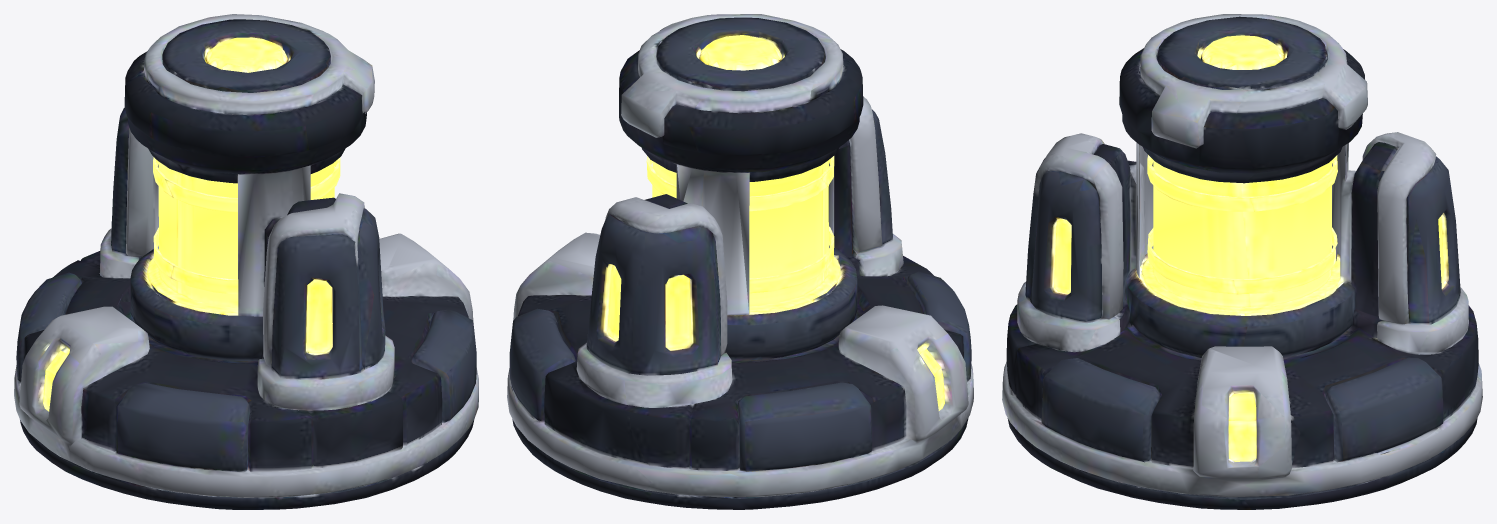
Rendered from building-energy-tier-1.glb.
The picture shows the model from 3 angles, left to right: view 1: azimuth 30°, elevation 25°; view 2: azimuth 150°, elevation 25°; view 3: azimuth 270°, elevation 25°; orthographic projection.
Visible parts, largest first — view 1: building-energy-tier-1-body; view 2: building-energy-tier-1-body; view 3: building-energy-tier-1-body.
Part boxes in pixels (bbox=[...]): building-energy-tier-1-body: bbox=[14, 14, 478, 509]; building-energy-tier-1-body: bbox=[507, 14, 973, 509]; building-energy-tier-1-body: bbox=[1002, 14, 1482, 509].
Size of the model in its own units: 1 by 0.8326 by 0.9984.
Materials: 1 (1 with a texture image).
